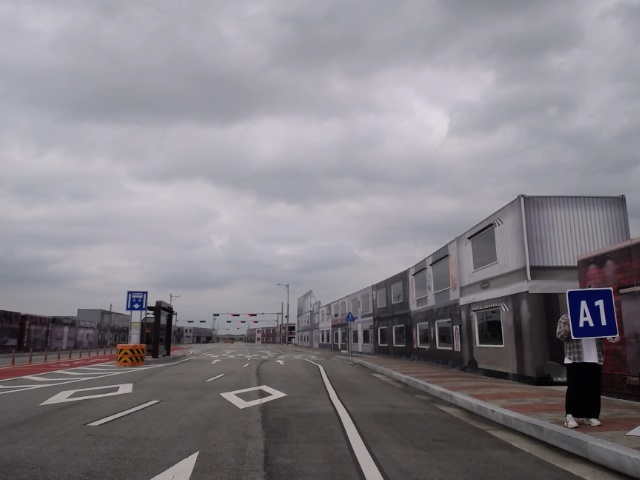delivery_a1: (566, 288, 619, 339)
